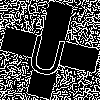U: (25, 25, 71, 78)
